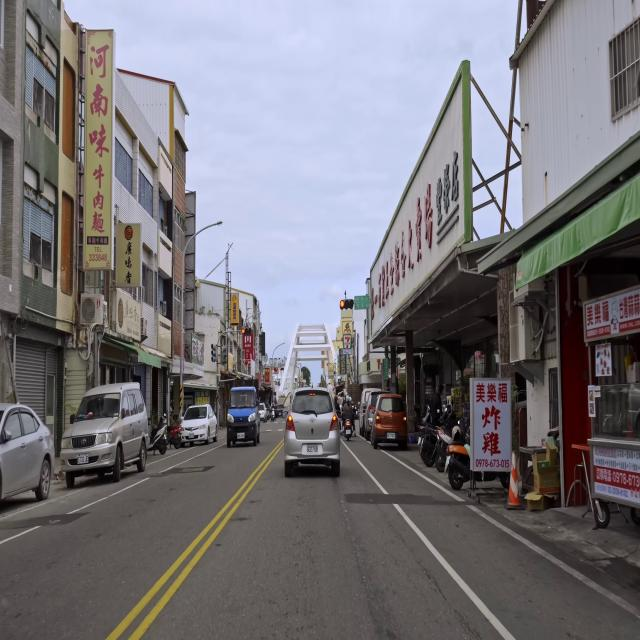red light: (339, 299, 354, 309), (241, 327, 252, 335)
